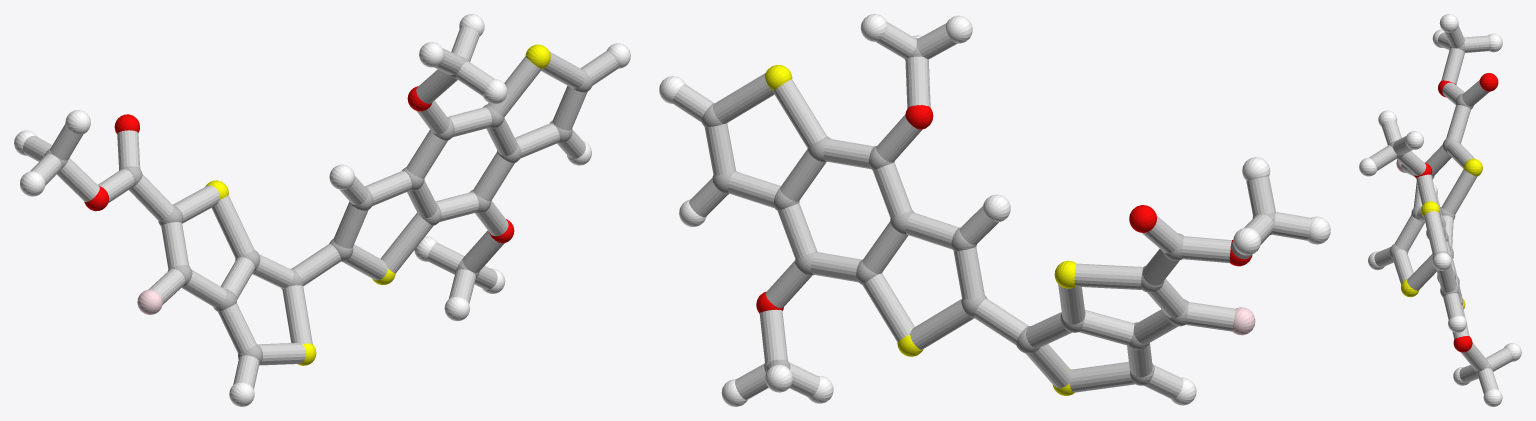
Rendered from Dimethoxy_Benzodithiophene_Phi_30_Theta_220_Methylcarbonyl_3_Fluoro_Thienothiophene.glb.
3 views of the same model, side by side, from view 1: azimuth 30°, elevation 25°; view 2: azimuth 150°, elevation 25°; view 3: azimuth 270°, elevation 25° (orthographic). The views are drawn at different scales.
Visible parts, largest first — view 1: grp15205, grp8689, grp1, grp13395, grp7241; view 2: grp15205, grp8689, grp1, grp13395, grp7241; view 3: grp15205, grp8689, grp1, grp13395, grp7241.
Part boxes in pixels (x1,y1,x2,y2): grp15205: (23, 26, 618, 389); grp8689: (14, 14, 630, 406); grp1: (44, 56, 592, 363); grp13395: (84, 86, 514, 243); grp7241: (205, 44, 550, 365); grp15205: (672, 22, 1311, 399); grp8689: (659, 14, 1330, 406); grp1: (701, 39, 1275, 385); grp13395: (756, 105, 1252, 313); grp7241: (765, 65, 1076, 395); grp15205: (1369, 25, 1512, 394); grp8689: (1359, 14, 1521, 406); grp1: (1389, 43, 1492, 374); grp13395: (1414, 73, 1498, 352); grp7241: (1401, 158, 1482, 309).
Size of the model in its own units: 16.5 by 8.68 by 5.17.
